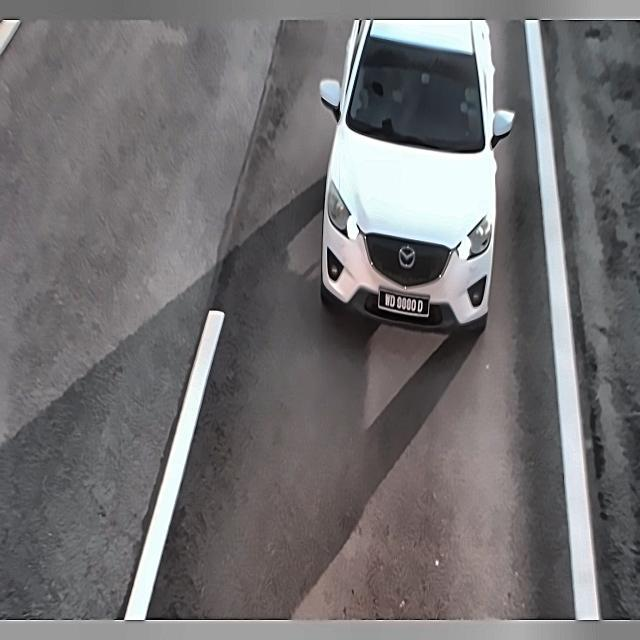car: (372, 281, 435, 332)
